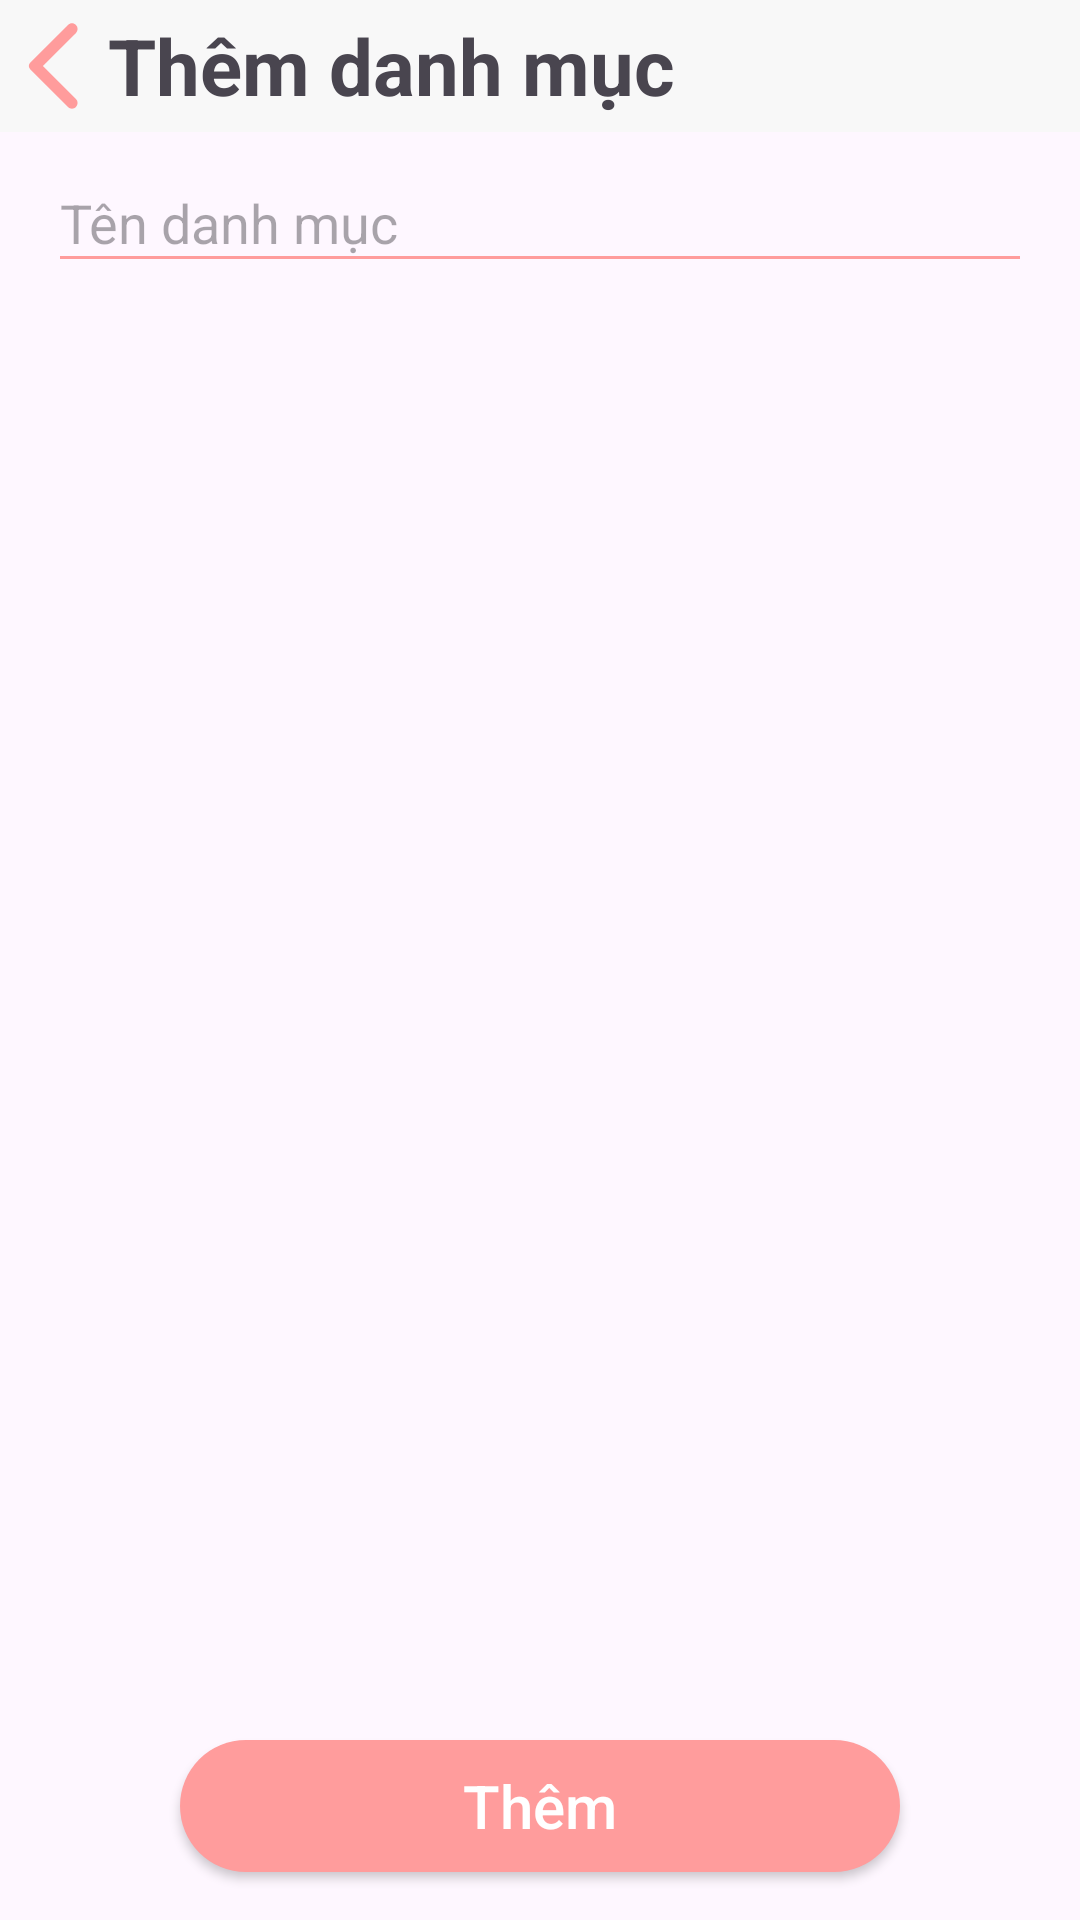

Point at icon controls on the screen. Image size 1080w x 1920h, points as [x,y].
arrow back: [53,66]
